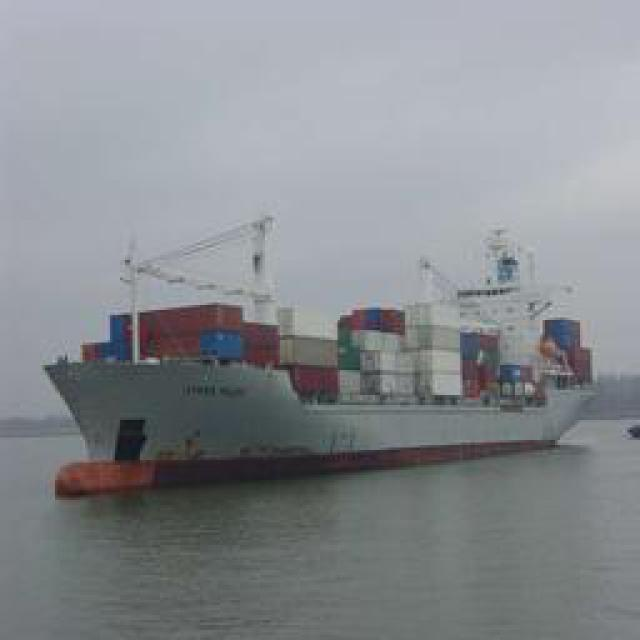Ship: (40, 204, 605, 503)
